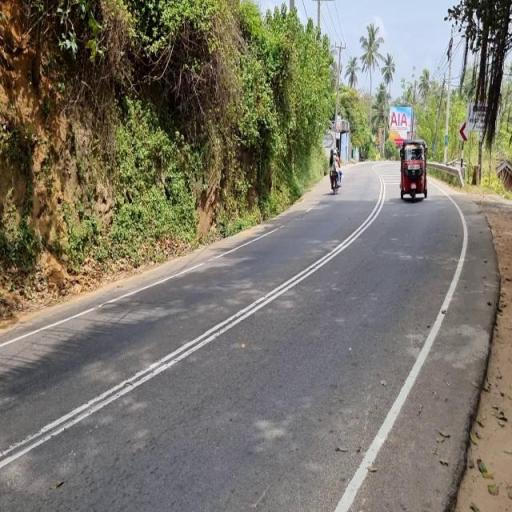double_white_line: (0, 164, 382, 481)
